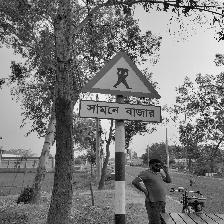Market-in-front: (79, 51, 163, 123)
